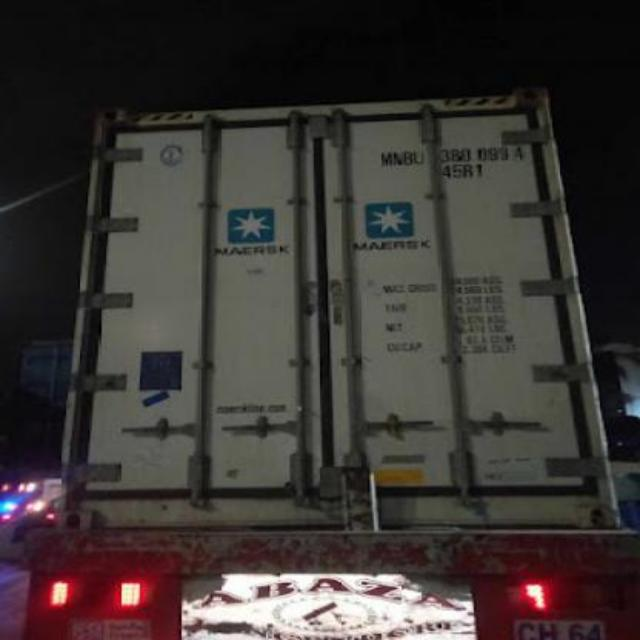0: (460, 140, 472, 163), (476, 144, 486, 166)
3: (434, 144, 448, 166)
4: (512, 142, 524, 164)
8: (450, 140, 460, 167)
9: (484, 142, 496, 164), (498, 142, 510, 164)
B: (402, 146, 412, 170)
M: (376, 146, 392, 170)
N: (390, 143, 402, 173)
U: (410, 145, 426, 169)
